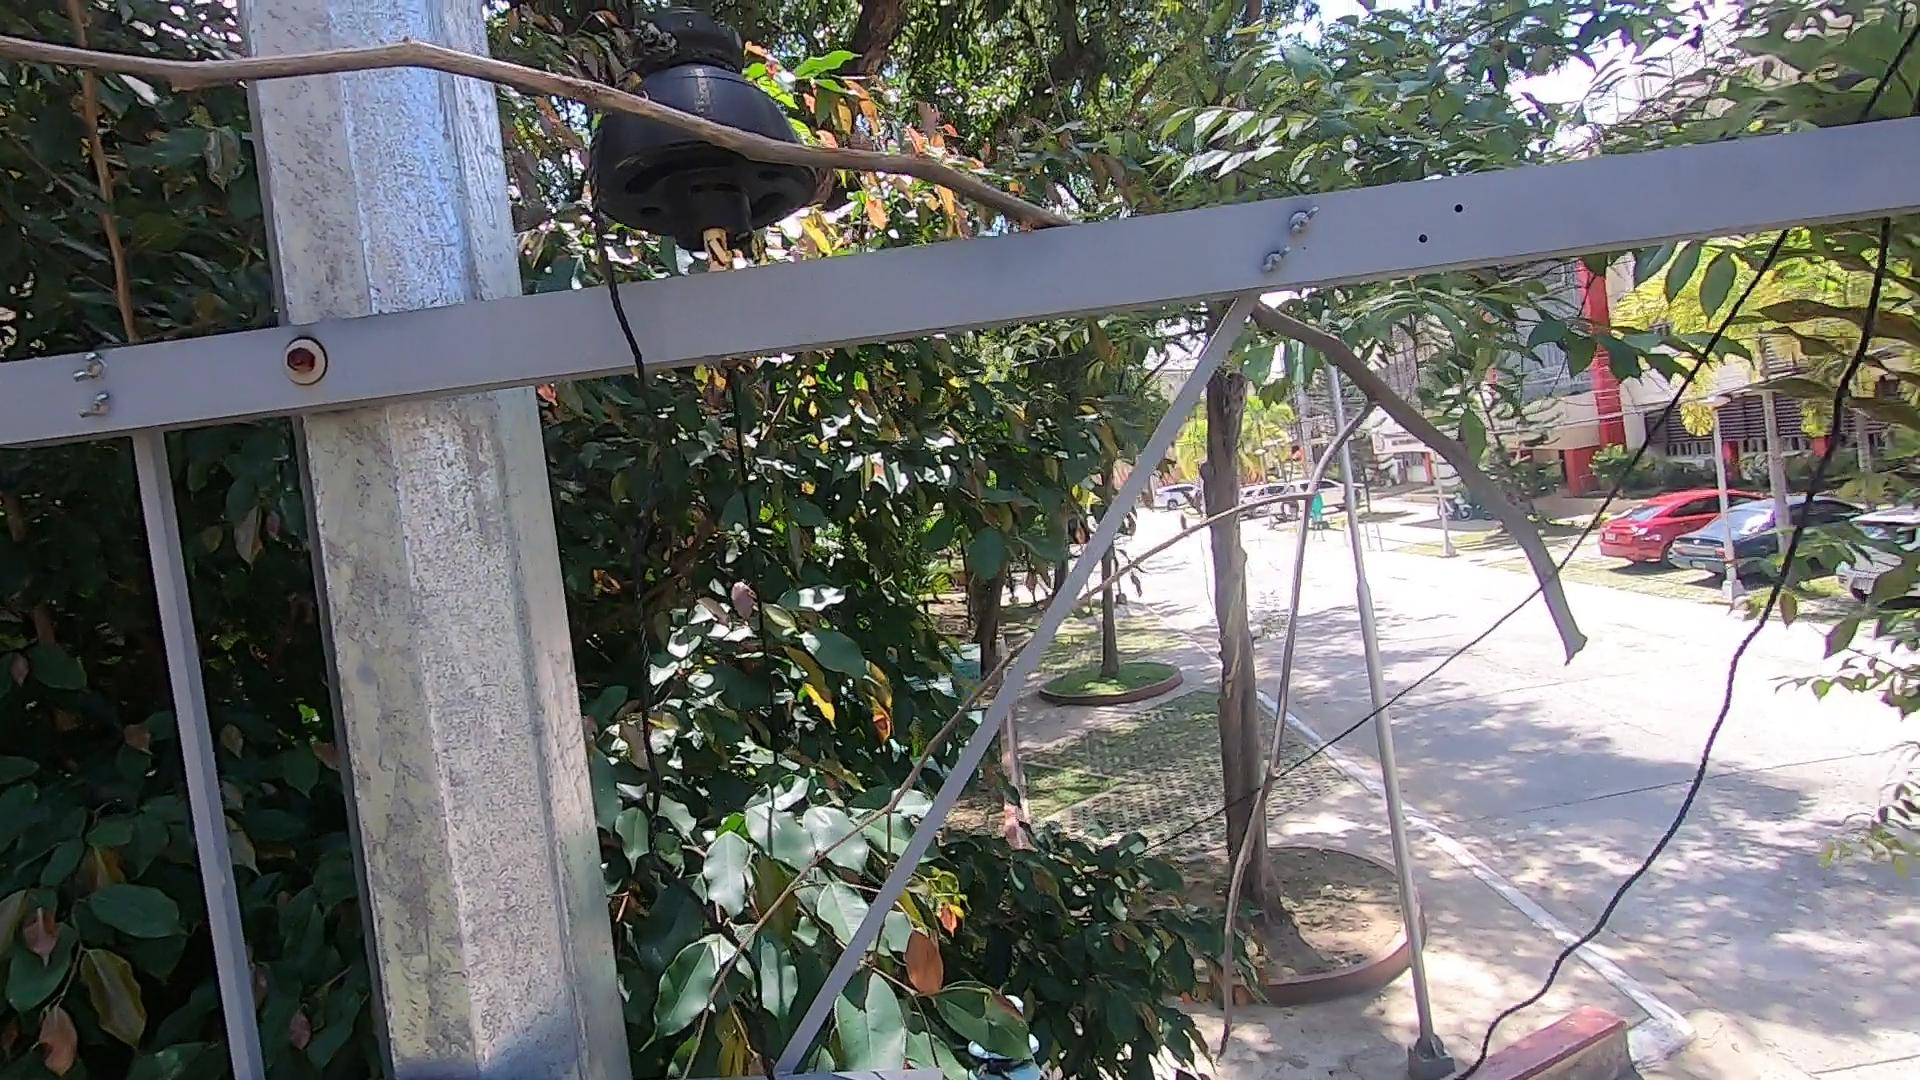tree branch: (675, 291, 1669, 1075), (1, 1, 1085, 236)
